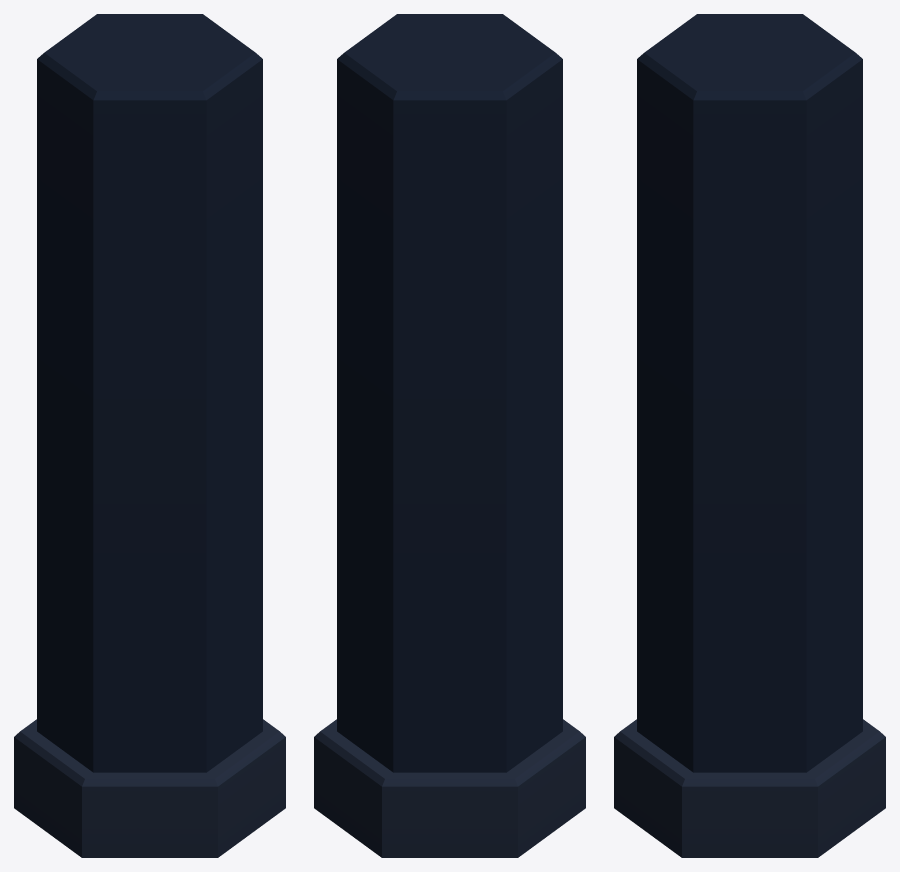
Rendered from Pillar 10.FBX.
3 renders of one model, left to right at view 1: azimuth 30°, elevation 25°; view 2: azimuth 150°, elevation 25°; view 3: azimuth 270°, elevation 25°, orthographic.
Parts seen in each view (by area): view 1: Pillar 10; view 2: Pillar 10; view 3: Pillar 10.
Boxes of the visible parts, x1,y1,x2,y2 form: Pillar 10: (14,14,285,857); Pillar 10: (314,14,585,857); Pillar 10: (614,14,885,857).
Size of the model in its own units: 285 by 1008 by 329.
1 material, 1 textured.
